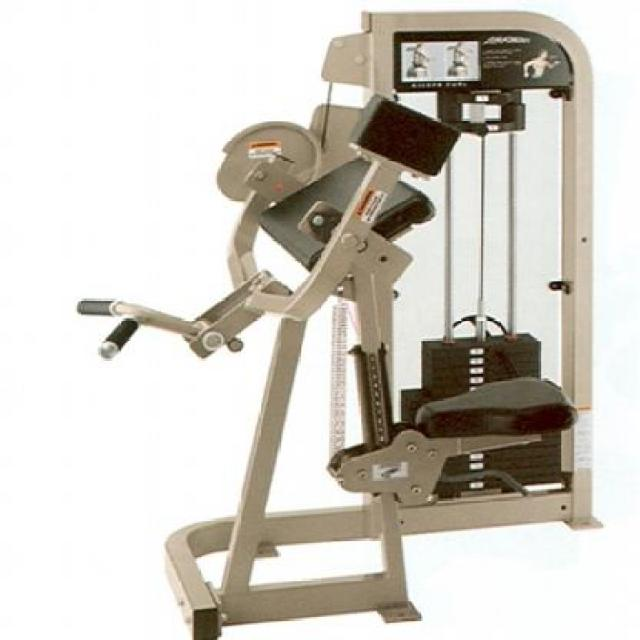arm curl machine: (77, 9, 603, 640)
